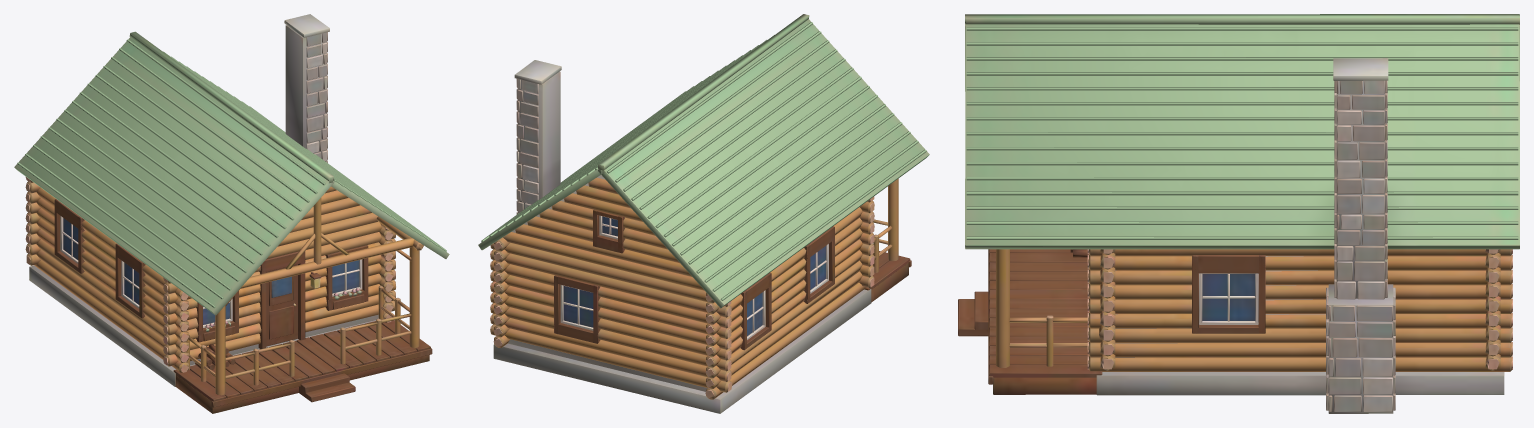
Rendered from log-cabin.glb.
3 views of the same model, side by side, from view 1: azimuth 30°, elevation 25°; view 2: azimuth 150°, elevation 25°; view 3: azimuth 270°, elevation 25° (orthographic). The views are drawn at different scales.
Visible parts, largest first — view 1: log-cabin_body, log-cabin_trim, log-cabin_roof_rows; view 2: log-cabin_body, log-cabin_roof_rows, log-cabin_trim; view 3: log-cabin_body, log-cabin_trim, log-cabin_roof_rows.
Part boxes in pixels (x1=…): log-cabin_body: x1=14, y1=14, x2=449, y2=413; log-cabin_trim: x1=25, y1=32, x2=432, y2=407; log-cabin_roof_rows: x1=17, y1=39, x2=446, y2=308; log-cabin_body: x1=478, y1=14, x2=929, y2=413; log-cabin_roof_rows: x1=481, y1=22, x2=926, y2=300; log-cabin_trim: x1=490, y1=79, x2=911, y2=398; log-cabin_body: x1=965, y1=14, x2=1519, y2=413; log-cabin_trim: x1=958, y1=80, x2=1512, y2=411; log-cabin_roof_rows: x1=966, y1=27, x2=1518, y2=239.
Size of the model in its own units: 7.53 by 6.71 by 10.21.
3 materials, 2 textured.
